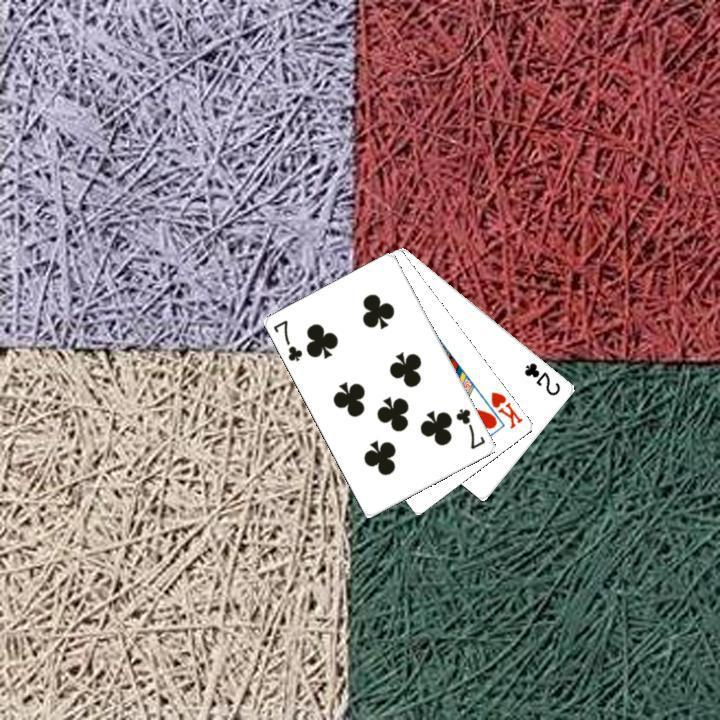2: (520, 358, 563, 398)
7: (269, 316, 305, 364), (452, 404, 488, 451)
K: (487, 387, 525, 431)
